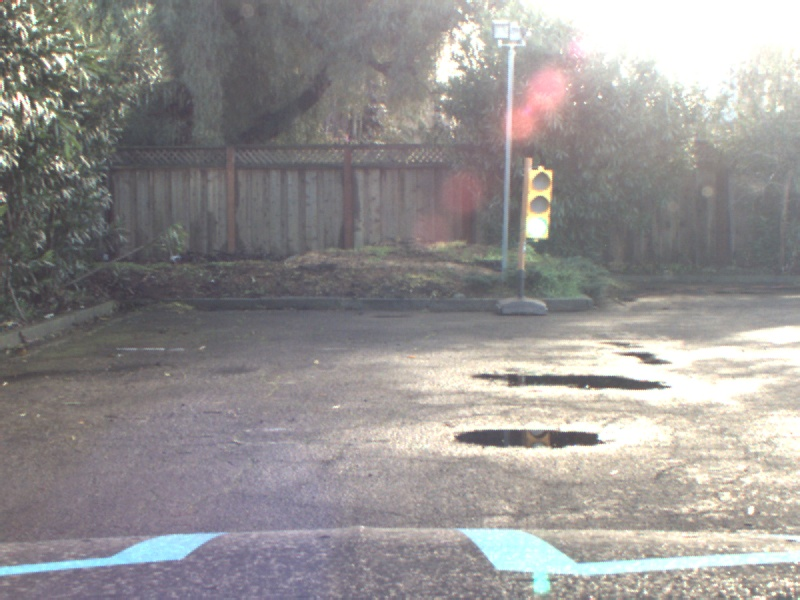Green: (527, 168, 551, 241)
